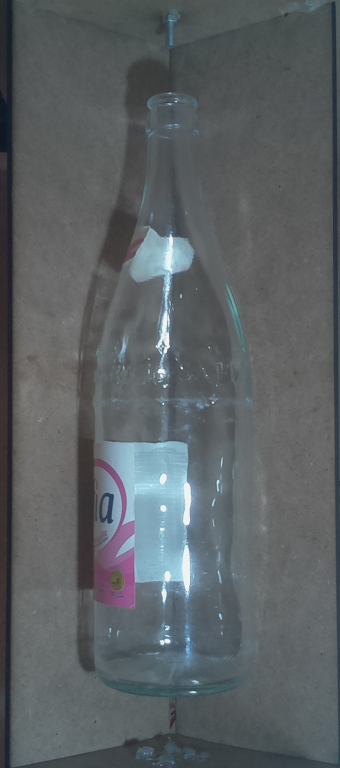Glass: (85, 87, 262, 708)
